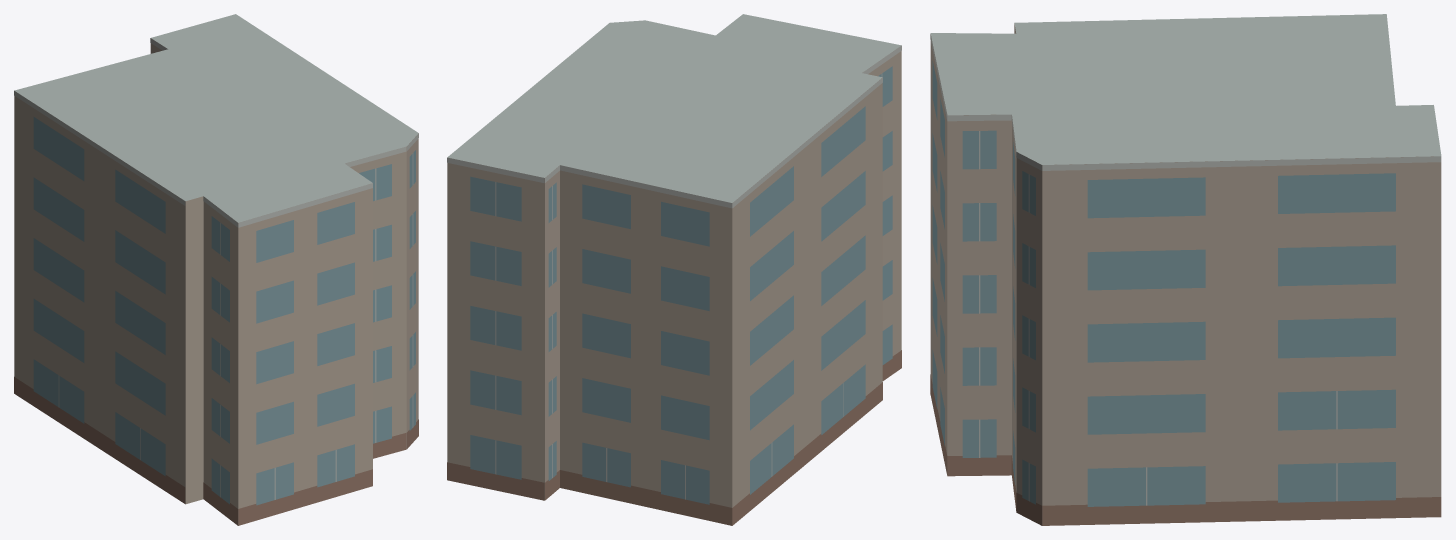
File: survey-upis-32604376.glb
The picture shows the model from 3 angles, left to right: view 1: azimuth 30°, elevation 25°; view 2: azimuth 150°, elevation 25°; view 3: azimuth 270°, elevation 25°; orthographic projection. The views are drawn at different scales.
Parts seen in each view (by area): view 1: survey-upis-32604376.tmp; view 2: survey-upis-32604376.tmp; view 3: survey-upis-32604376.tmp.
Boxes of the visible parts, x1=… form: survey-upis-32604376.tmp: x1=14, y1=14, x2=418, y2=525; survey-upis-32604376.tmp: x1=447, y1=14, x2=901, y2=525; survey-upis-32604376.tmp: x1=930, y1=14, x2=1441, y2=525.
Bounding box in the file's own units: 13.3 × 14.8 × 19.01.
